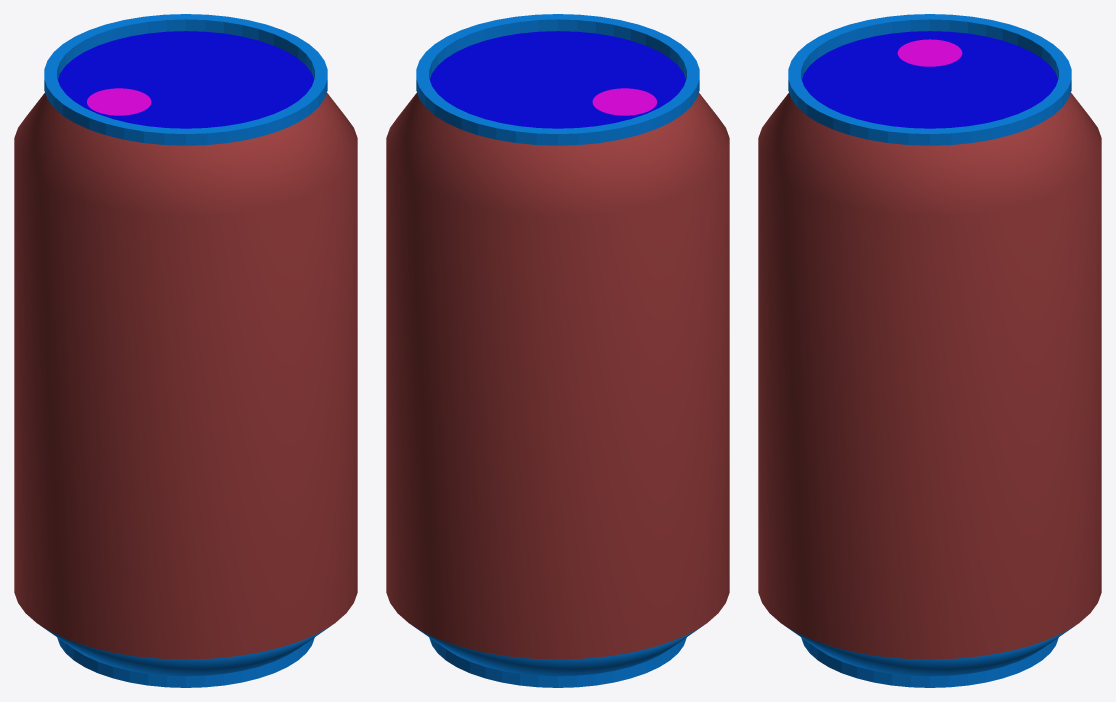
The model's file is Soda Can.fbx.
The picture shows the model from 3 angles, left to right: view 1: azimuth 30°, elevation 25°; view 2: azimuth 150°, elevation 25°; view 3: azimuth 270°, elevation 25°; orthographic projection.
Parts seen in each view (by area): view 1: Soda_Can; view 2: Soda_Can; view 3: Soda_Can.
Part boxes in pixels (left/top/right/bottom): Soda_Can: left=14, top=14, right=357, bottom=687; Soda_Can: left=386, top=14, right=729, bottom=687; Soda_Can: left=758, top=14, right=1101, bottom=687.
Bounding box in the file's own units: 6.7 × 12 × 6.68.
